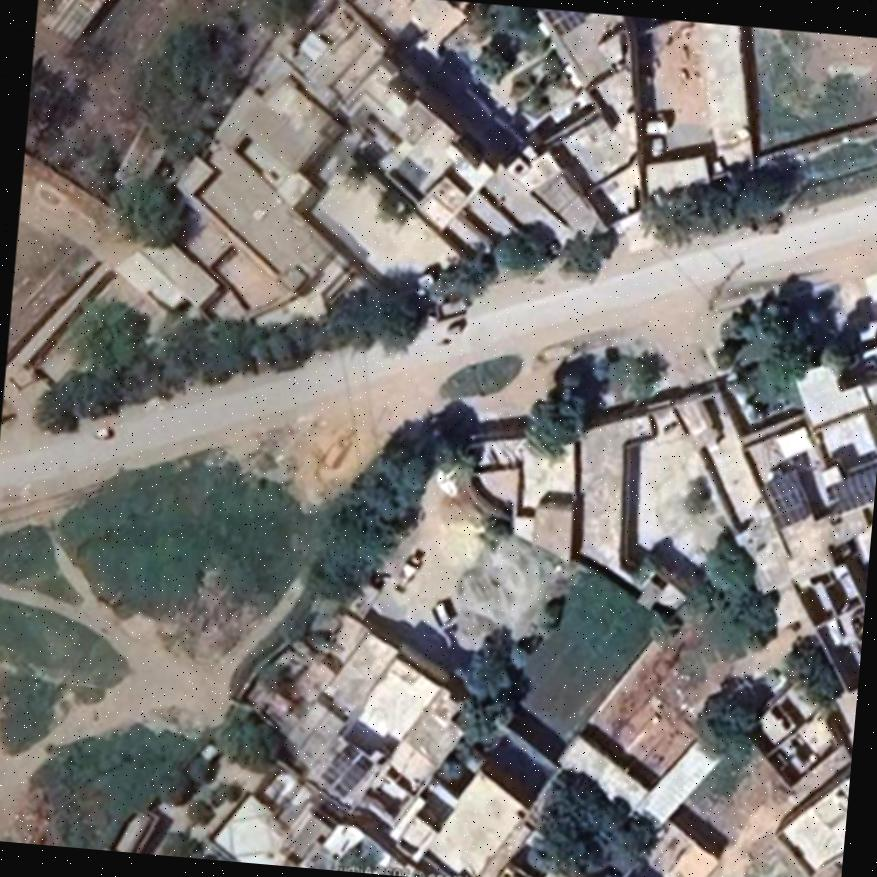Solarpanel: (759, 472, 811, 528), (829, 467, 876, 515), (319, 751, 366, 795), (538, 7, 585, 34)
